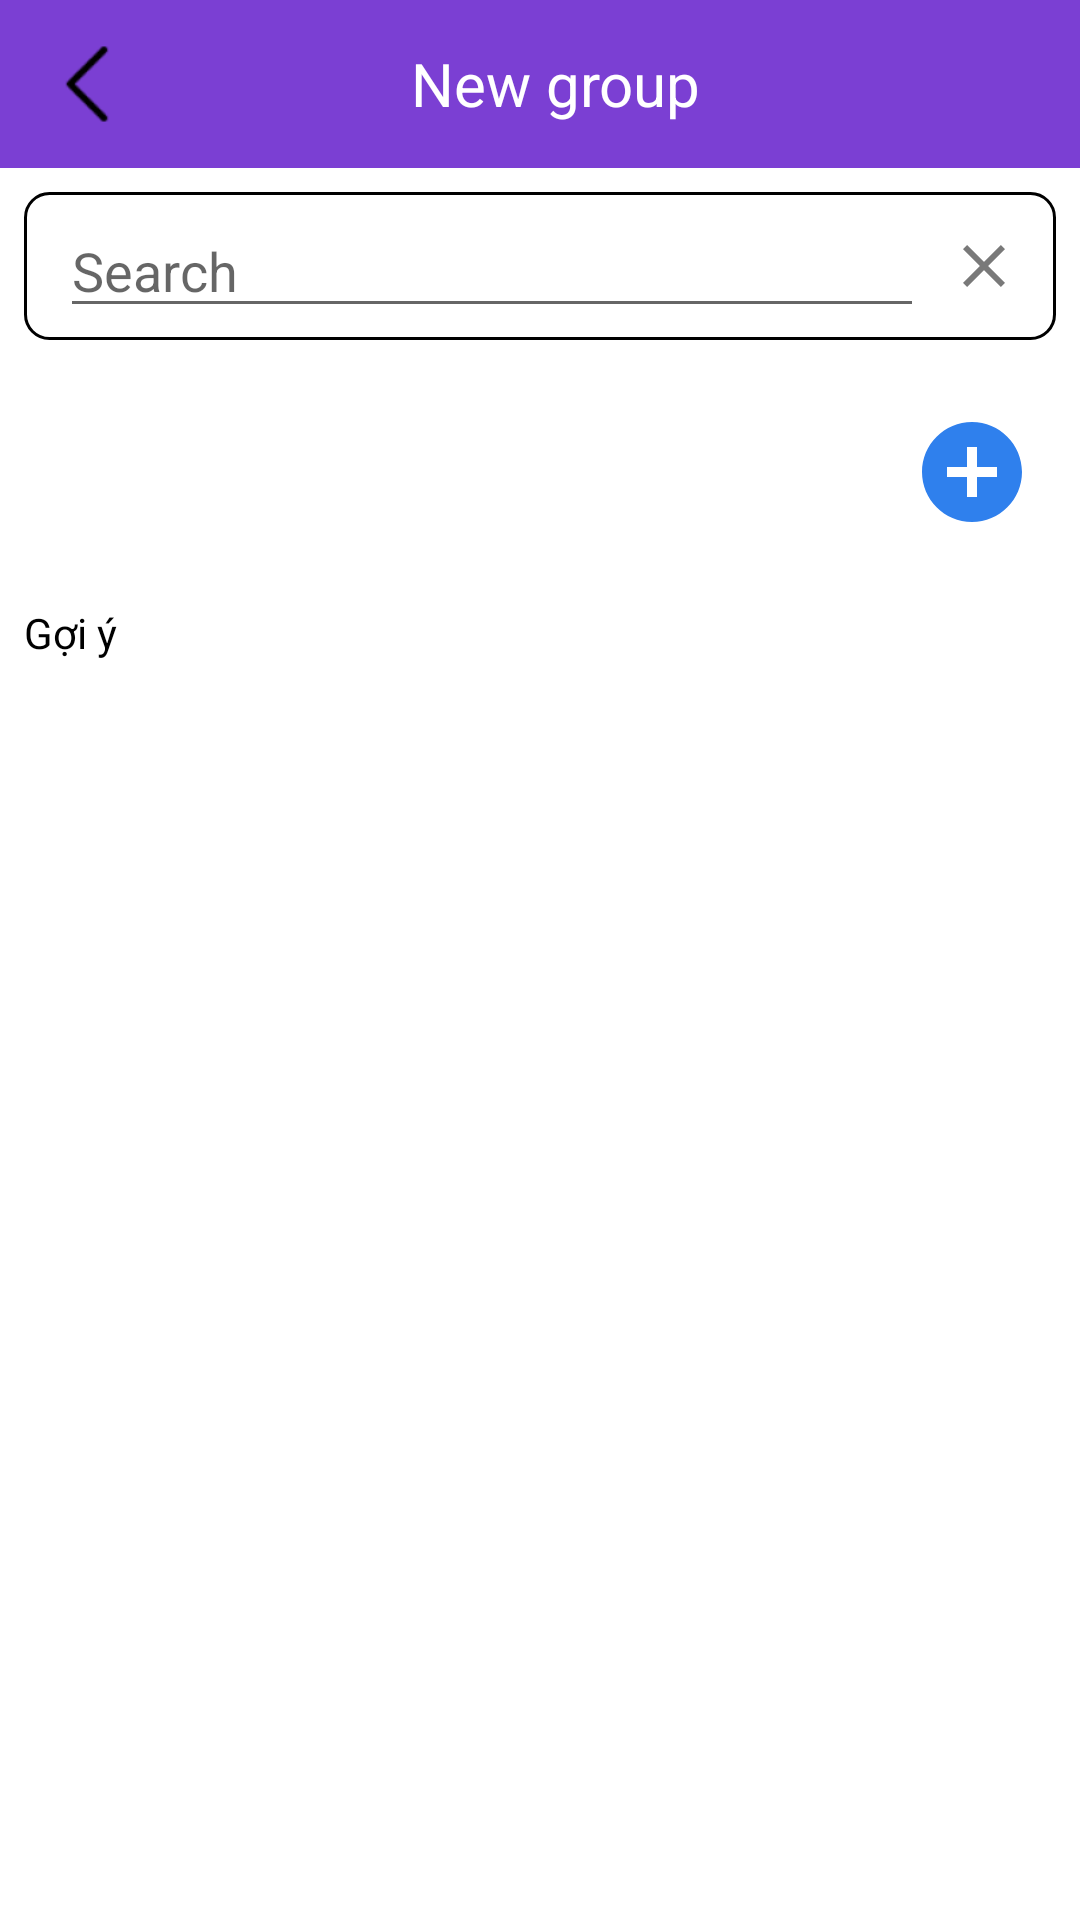

Icon click points for this 1080px x 1920px phone screenshot, format [x,y]:
add: [972,472]
back: [87,84]
close: [984,266]
